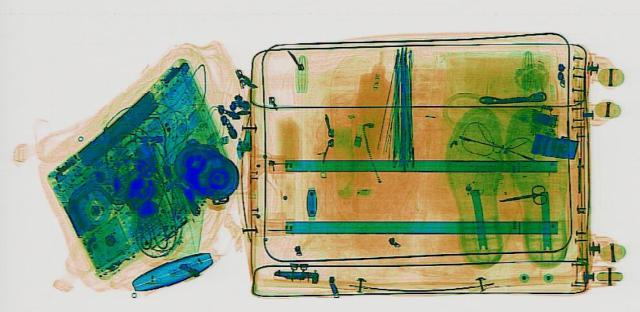Scissors: (489, 182, 556, 208)
